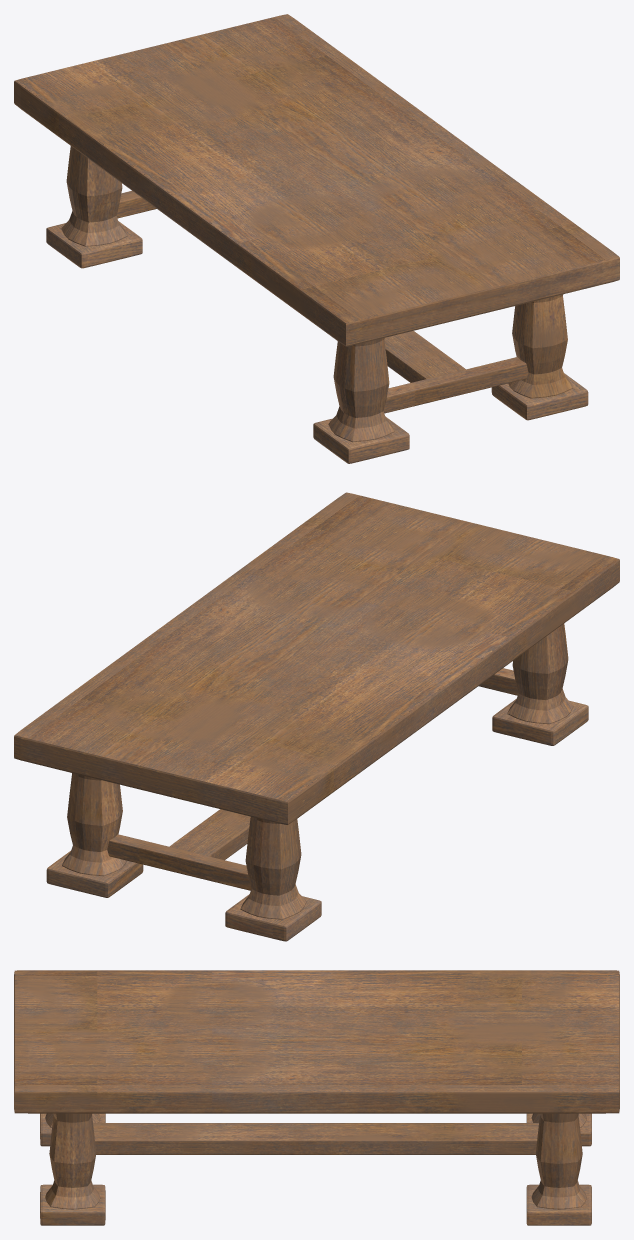
The model's file is Table01.fbx.
3 views of the same model, one above another, from view 1: azimuth 30°, elevation 25°; view 2: azimuth 150°, elevation 25°; view 3: azimuth 270°, elevation 25° (orthographic). The views are drawn at different scales.
Visible parts, largest first — view 1: Table01; view 2: Table01; view 3: Table01.
Boxes of the visible parts, x1,y1,x2,y2 form: Table01: [14, 14, 619, 463]; Table01: [14, 492, 619, 941]; Table01: [14, 970, 619, 1225].
Size of the model in its own units: 177 by 96.21 by 371.
